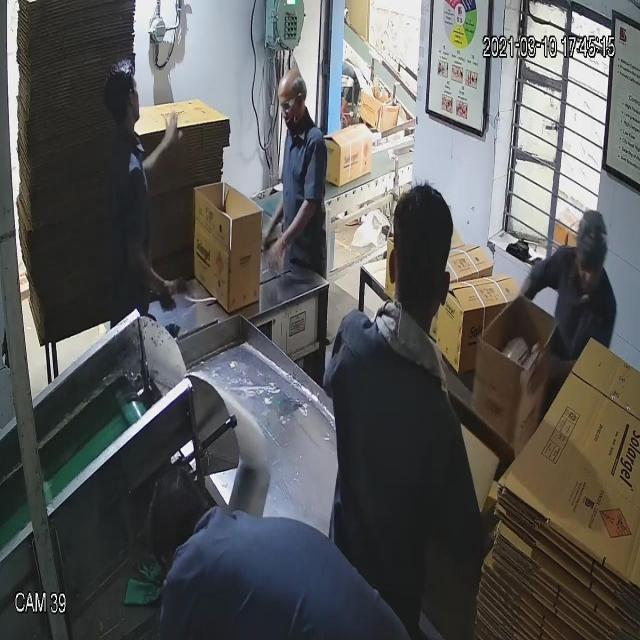No_Gloves: (50, 72, 293, 268)
